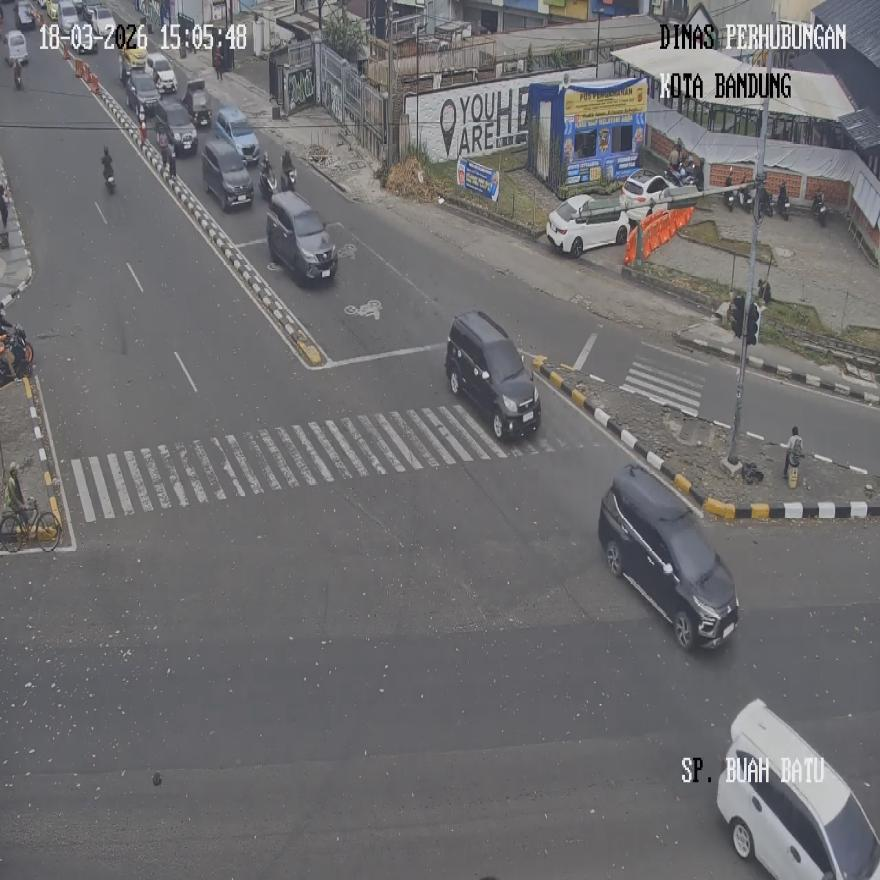Motor: (715, 699, 880, 879), (598, 463, 740, 650), (445, 310, 540, 440), (266, 191, 338, 281), (546, 194, 630, 256), (201, 136, 253, 209), (212, 104, 260, 165)
Truk: (0, 325, 33, 381), (260, 154, 276, 203), (723, 168, 737, 211), (812, 190, 826, 228), (102, 155, 116, 193), (776, 183, 789, 220), (741, 182, 756, 213), (758, 187, 773, 216), (280, 167, 296, 192), (12, 56, 23, 88)
